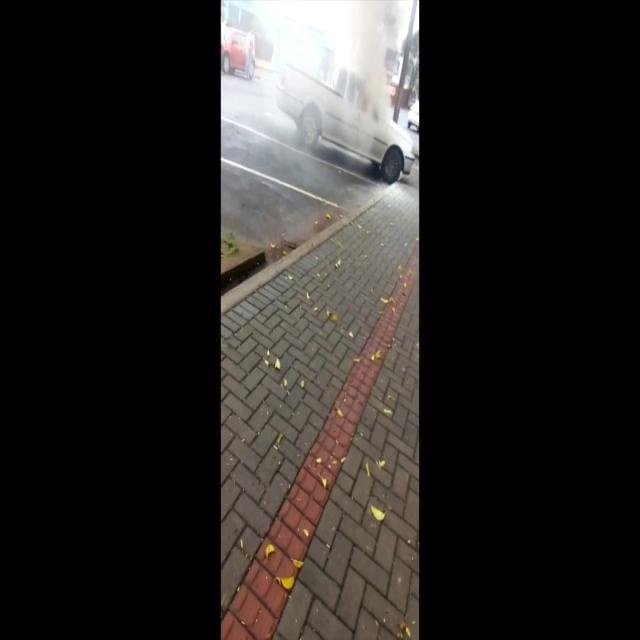Smoke: (304, 1, 403, 178)
